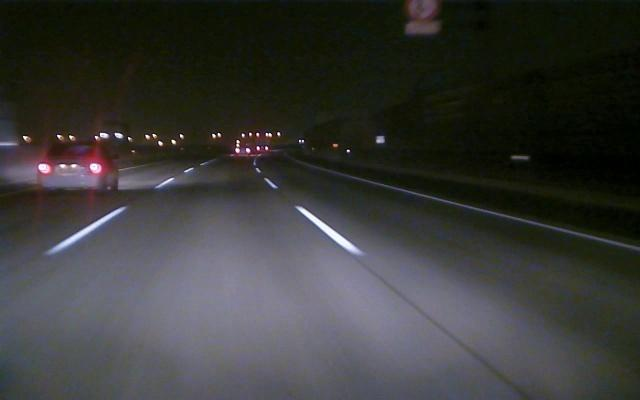lane: (318, 168, 639, 252), (44, 176, 176, 258), (261, 177, 364, 255)
